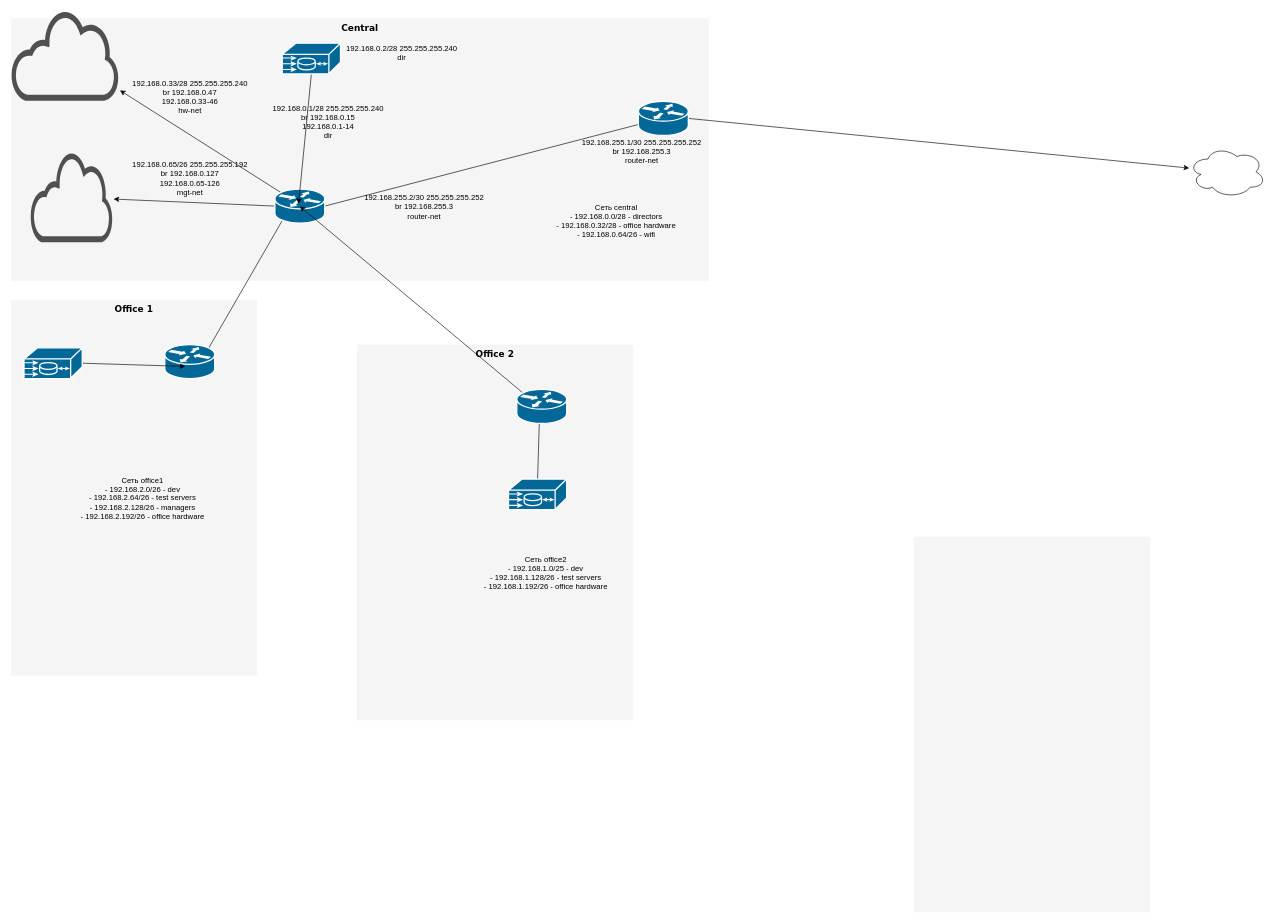
The diagram is 1277 pixels wide and 924 high, and some of its shapes have lost their labels. The shapes that lost their labels are listed below. From the top down, each one's centre as x and y in pixels, then its label:
At (x=1227, y=171): "Internet".
At (x=1031, y=724): "Group 4".
